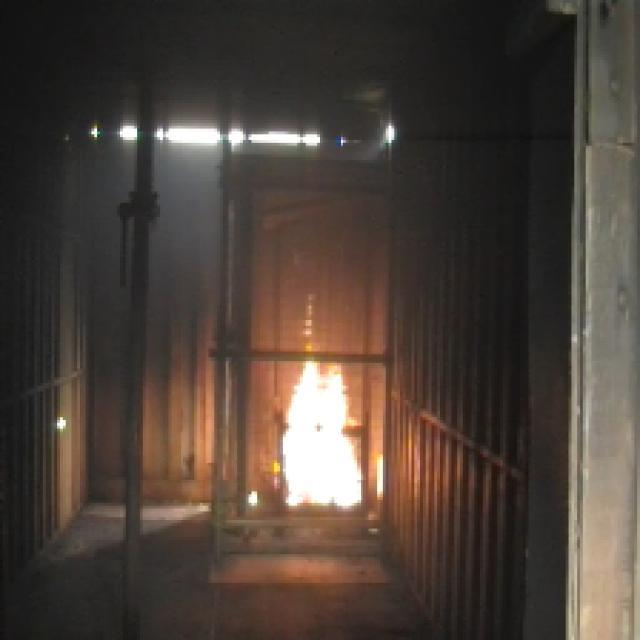Fire: (266, 354, 369, 512)
